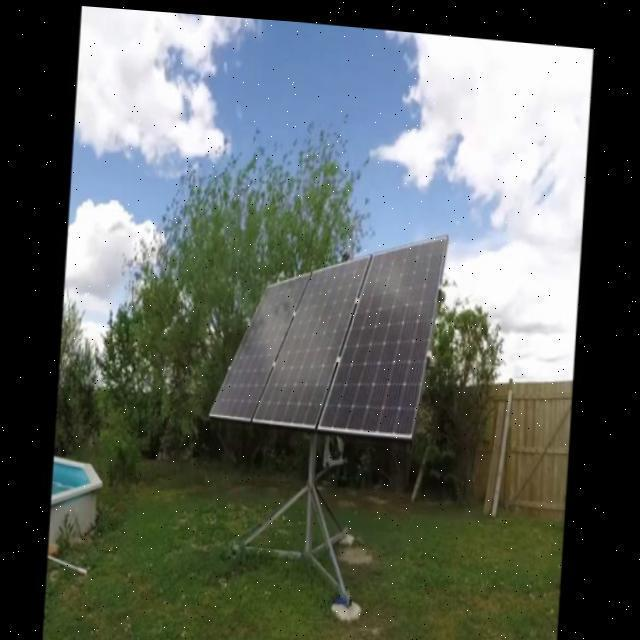Normal Solar Panel: (324, 220, 450, 433), (258, 243, 372, 426), (214, 262, 312, 421)
